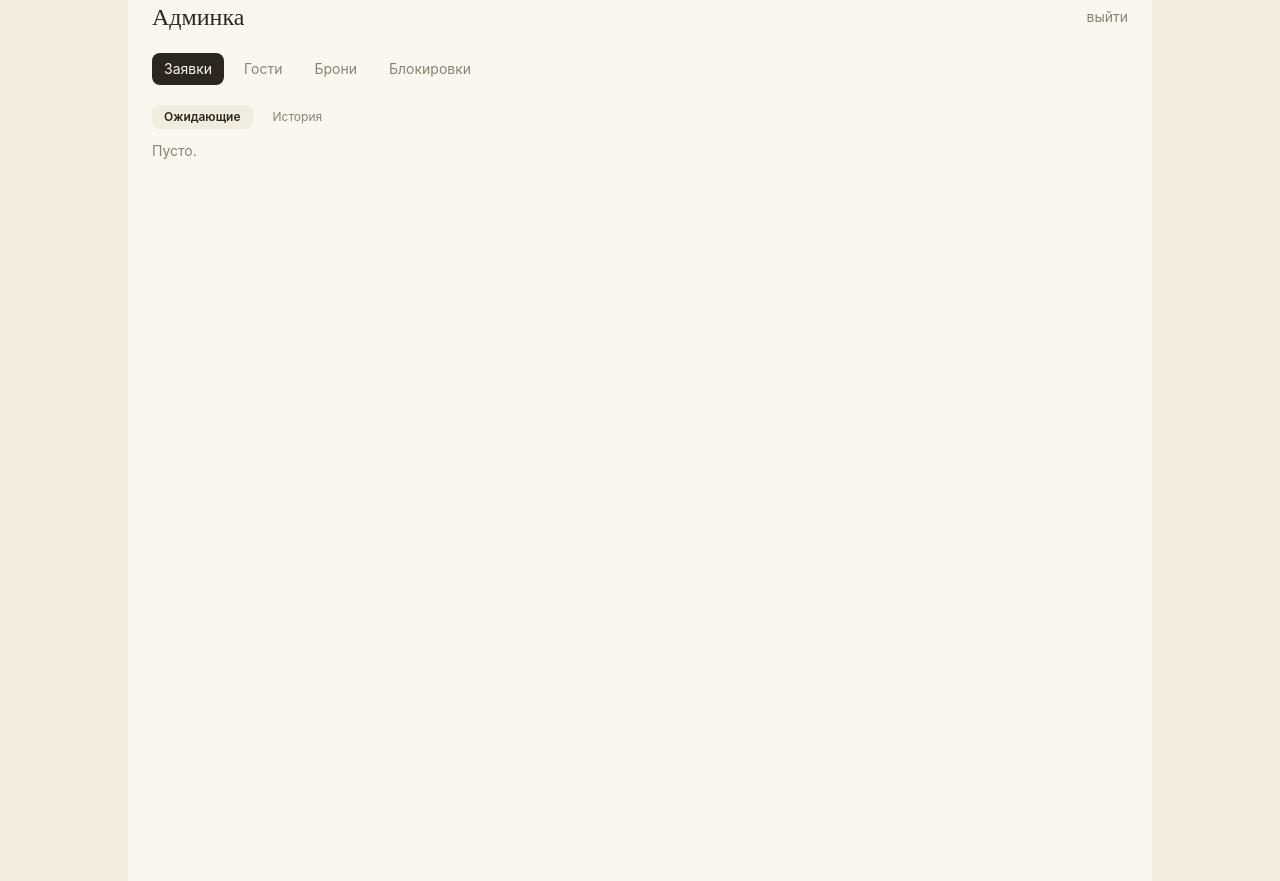
Test case: вкладки «Брони» и «Блокировки» открывают свои секции
Click the button "Брони". click: (336, 69)
box: [302,53,369,85]
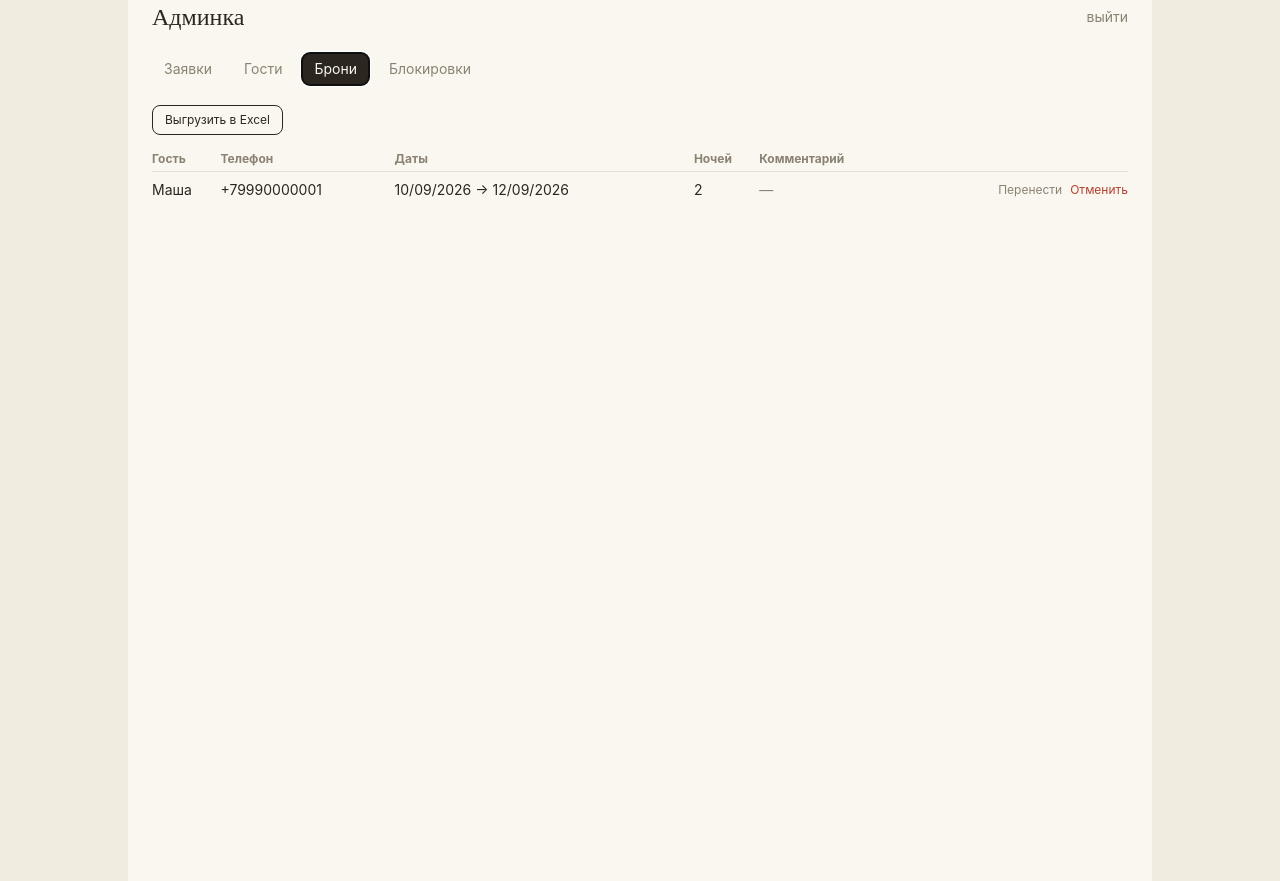
Expected: the table with test id "admin-bookings" is shown, [152,147,1128,208]
Click the button "Блокировки". click: (430, 69)
box: [377,53,483,85]
(page scrolled)
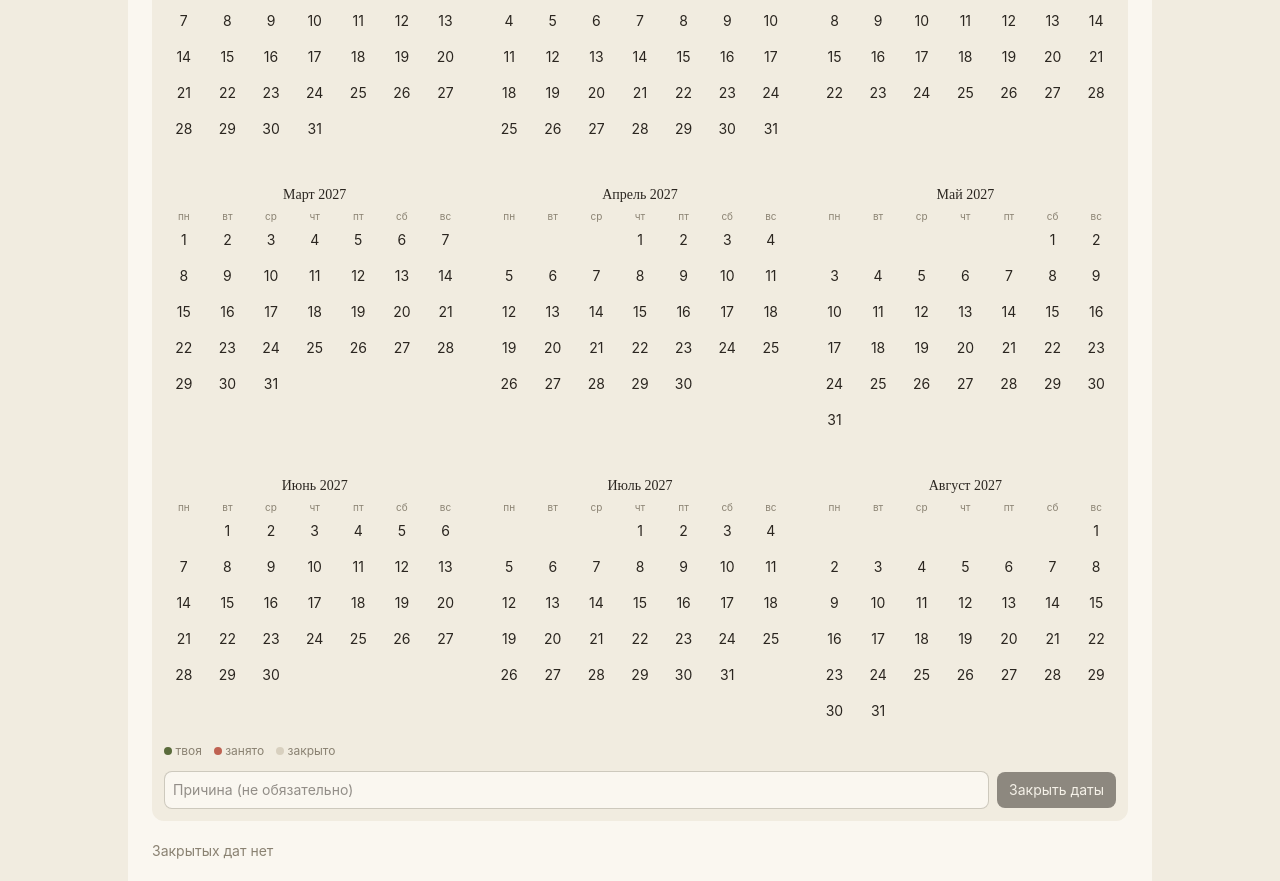
Expected: the text "Закрытых дат нет" is shown, [152,842,273,859]
